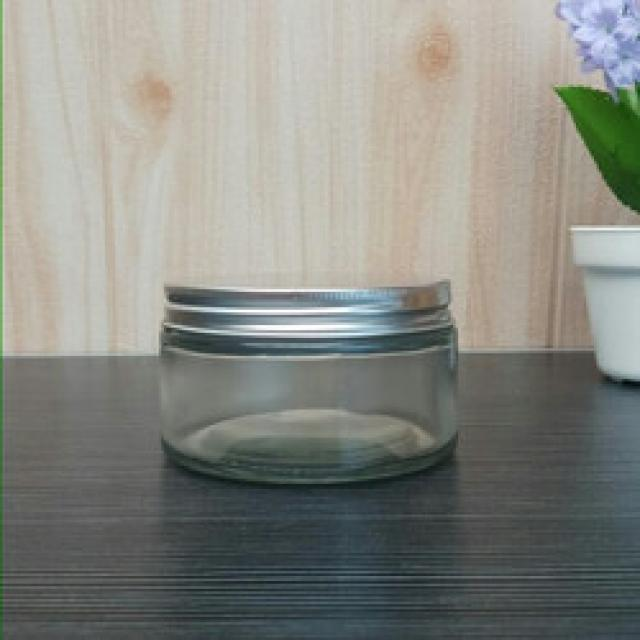ToplesKaca: (158, 267, 464, 485)
